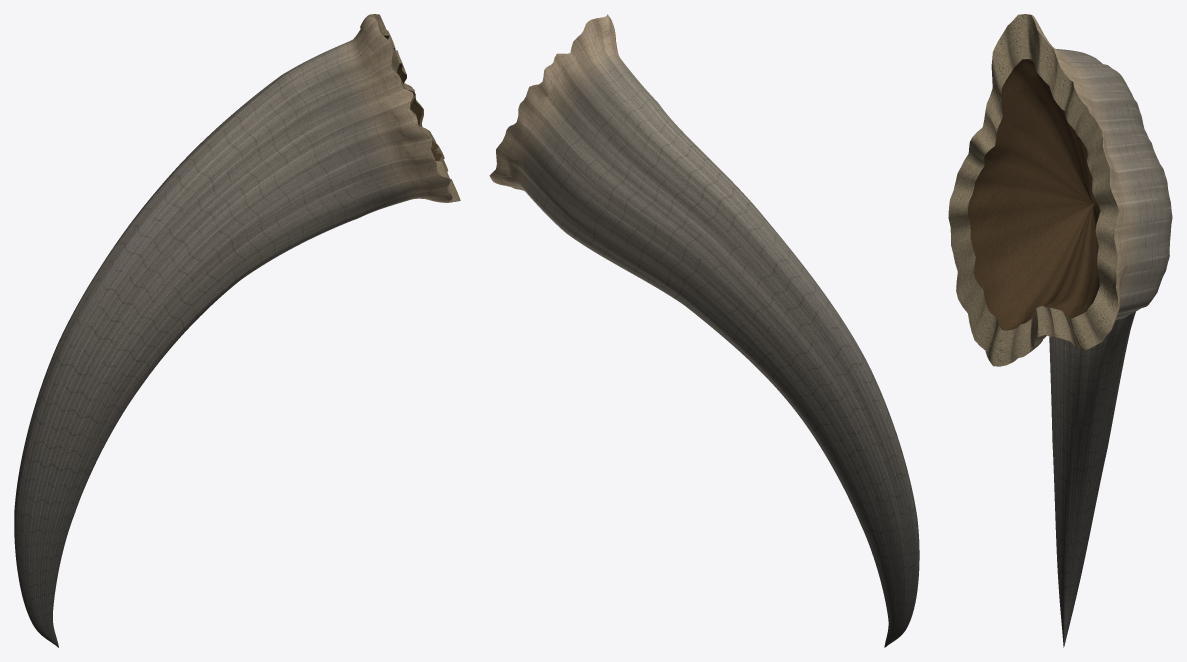
The model's file is ashback_claw.glb.
3 views of the same model, side by side, from view 1: azimuth 30°, elevation 25°; view 2: azimuth 150°, elevation 25°; view 3: azimuth 270°, elevation 25° (orthographic). The views are drawn at different scales.
Visible parts, largest first — view 1: ashback_claw natural keratin, ashback_claw exposed chipped root; view 2: ashback_claw natural keratin; view 3: ashback_claw natural keratin, ashback_claw porous root interior, ashback_claw exposed chipped root.
Boxes of the visible parts, bbox=[...] form: ashback_claw natural keratin: bbox=[14, 14, 460, 647]; ashback_claw exposed chipped root: bbox=[370, 14, 460, 201]; ashback_claw natural keratin: bbox=[489, 14, 919, 647]; ashback_claw natural keratin: bbox=[1012, 15, 1172, 647]; ashback_claw porous root interior: bbox=[968, 59, 1100, 330]; ashback_claw exposed chipped root: bbox=[948, 14, 1119, 366].
Bounding box in the file's own units: 0.333 × 0.4186 × 0.0996.
3 materials, 3 textured.
